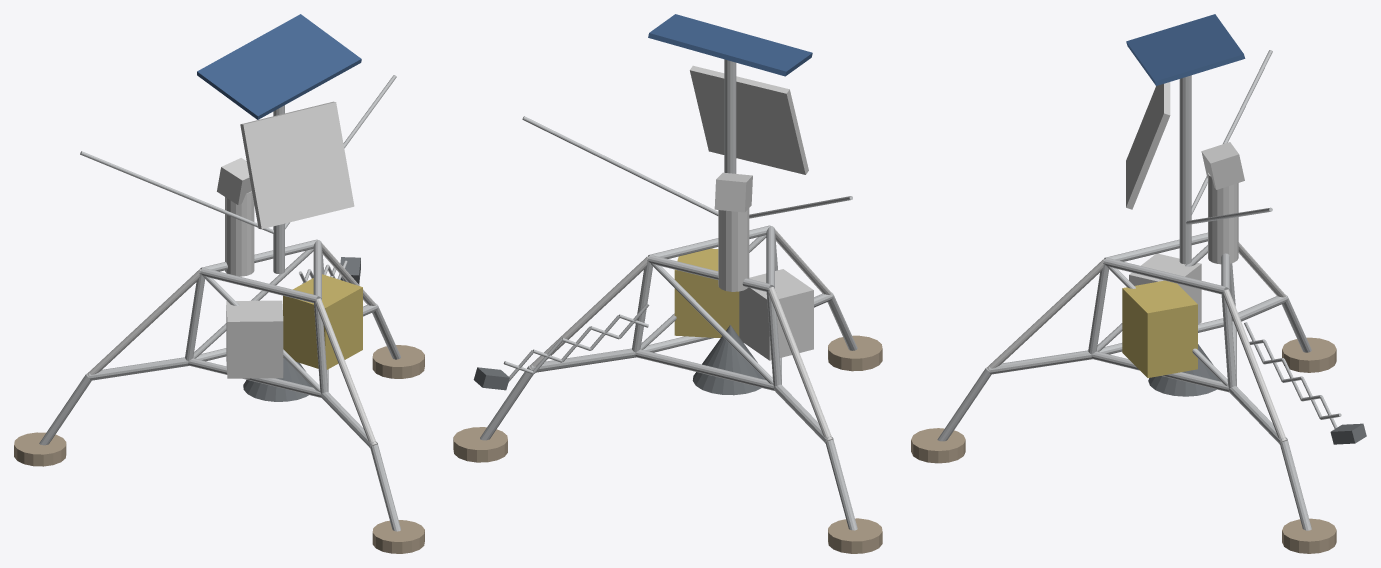
The model's file is surveyor-3.glb.
The picture shows the model from 3 angles, left to right: view 1: azimuth 30°, elevation 25°; view 2: azimuth 150°, elevation 25°; view 3: azimuth 270°, elevation 25°; orthographic projection. The views are drawn at different scales.
Parts seen in each view (by area): view 1: geometry_29, geometry_28, geometry_24, geometry_25, geometry_32, geometry_15, geometry_19, geometry_23, geometry_26, geometry_13, geometry_33, geometry_17 (+14 smaller); view 2: geometry_29, geometry_28, geometry_25, geometry_24, geometry_32, geometry_26, geometry_19, geometry_23, geometry_15, geometry_27, geometry_33, geometry_17 (+16 smaller); view 3: geometry_24, geometry_28, geometry_29, geometry_27, geometry_32, geometry_23, geometry_15, geometry_19, geometry_25, geometry_33, geometry_21, geometry_13 (+12 smaller).
Boxes of the visible parts, bbox=[...] form: geometry_29: bbox=[240, 101, 354, 229]; geometry_28: bbox=[197, 14, 361, 119]; geometry_24: bbox=[283, 274, 362, 369]; geometry_25: bbox=[226, 300, 283, 378]; geometry_32: bbox=[225, 191, 254, 276]; geometry_15: bbox=[372, 520, 424, 553]; geometry_19: bbox=[14, 432, 66, 466]; geometry_23: bbox=[372, 345, 424, 378]; geometry_26: bbox=[243, 358, 312, 401]; geometry_13: bbox=[315, 298, 377, 446]; geometry_33: bbox=[217, 158, 251, 204]; geometry_17: bbox=[87, 269, 200, 377]; geometry_29: bbox=[689, 65, 808, 174]; geometry_28: bbox=[648, 14, 812, 76]; geometry_25: bbox=[739, 269, 813, 360]; geometry_24: bbox=[674, 248, 739, 337]; geometry_32: bbox=[718, 208, 749, 291]; geometry_26: bbox=[692, 325, 765, 395]; geometry_19: bbox=[828, 518, 882, 553]; geometry_23: bbox=[453, 427, 507, 462]; geometry_15: bbox=[828, 335, 882, 371]; geometry_27: bbox=[724, 59, 736, 173]; geometry_33: bbox=[714, 172, 752, 212]; geometry_17: bbox=[768, 287, 832, 441]; geometry_24: bbox=[1122, 280, 1197, 377]; geometry_28: bbox=[1126, 14, 1245, 85]; geometry_29: bbox=[1126, 82, 1170, 209]; geometry_27: bbox=[1179, 75, 1191, 264]; geometry_32: bbox=[1208, 173, 1238, 264]; geometry_23: bbox=[1282, 518, 1336, 553]; geometry_15: bbox=[911, 428, 965, 463]; geometry_19: bbox=[1282, 337, 1336, 372]; geometry_25: bbox=[1129, 253, 1201, 324]; geometry_33: bbox=[1201, 142, 1244, 189]; geometry_21: bbox=[1223, 289, 1286, 442]; geometry_13: bbox=[987, 259, 1104, 370].
Size of the model in its own units: 2.83 by 2.74 by 2.67.
